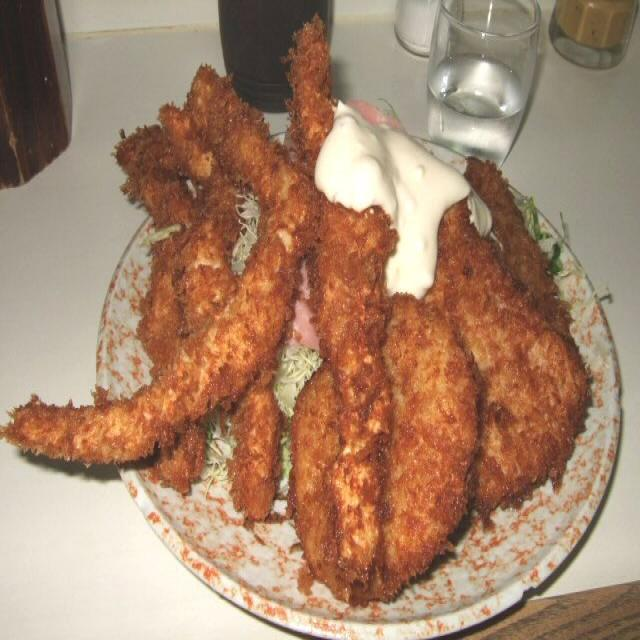炸货点心: (0, 0, 401, 609)
熟制海鲜: (0, 0, 401, 609)
